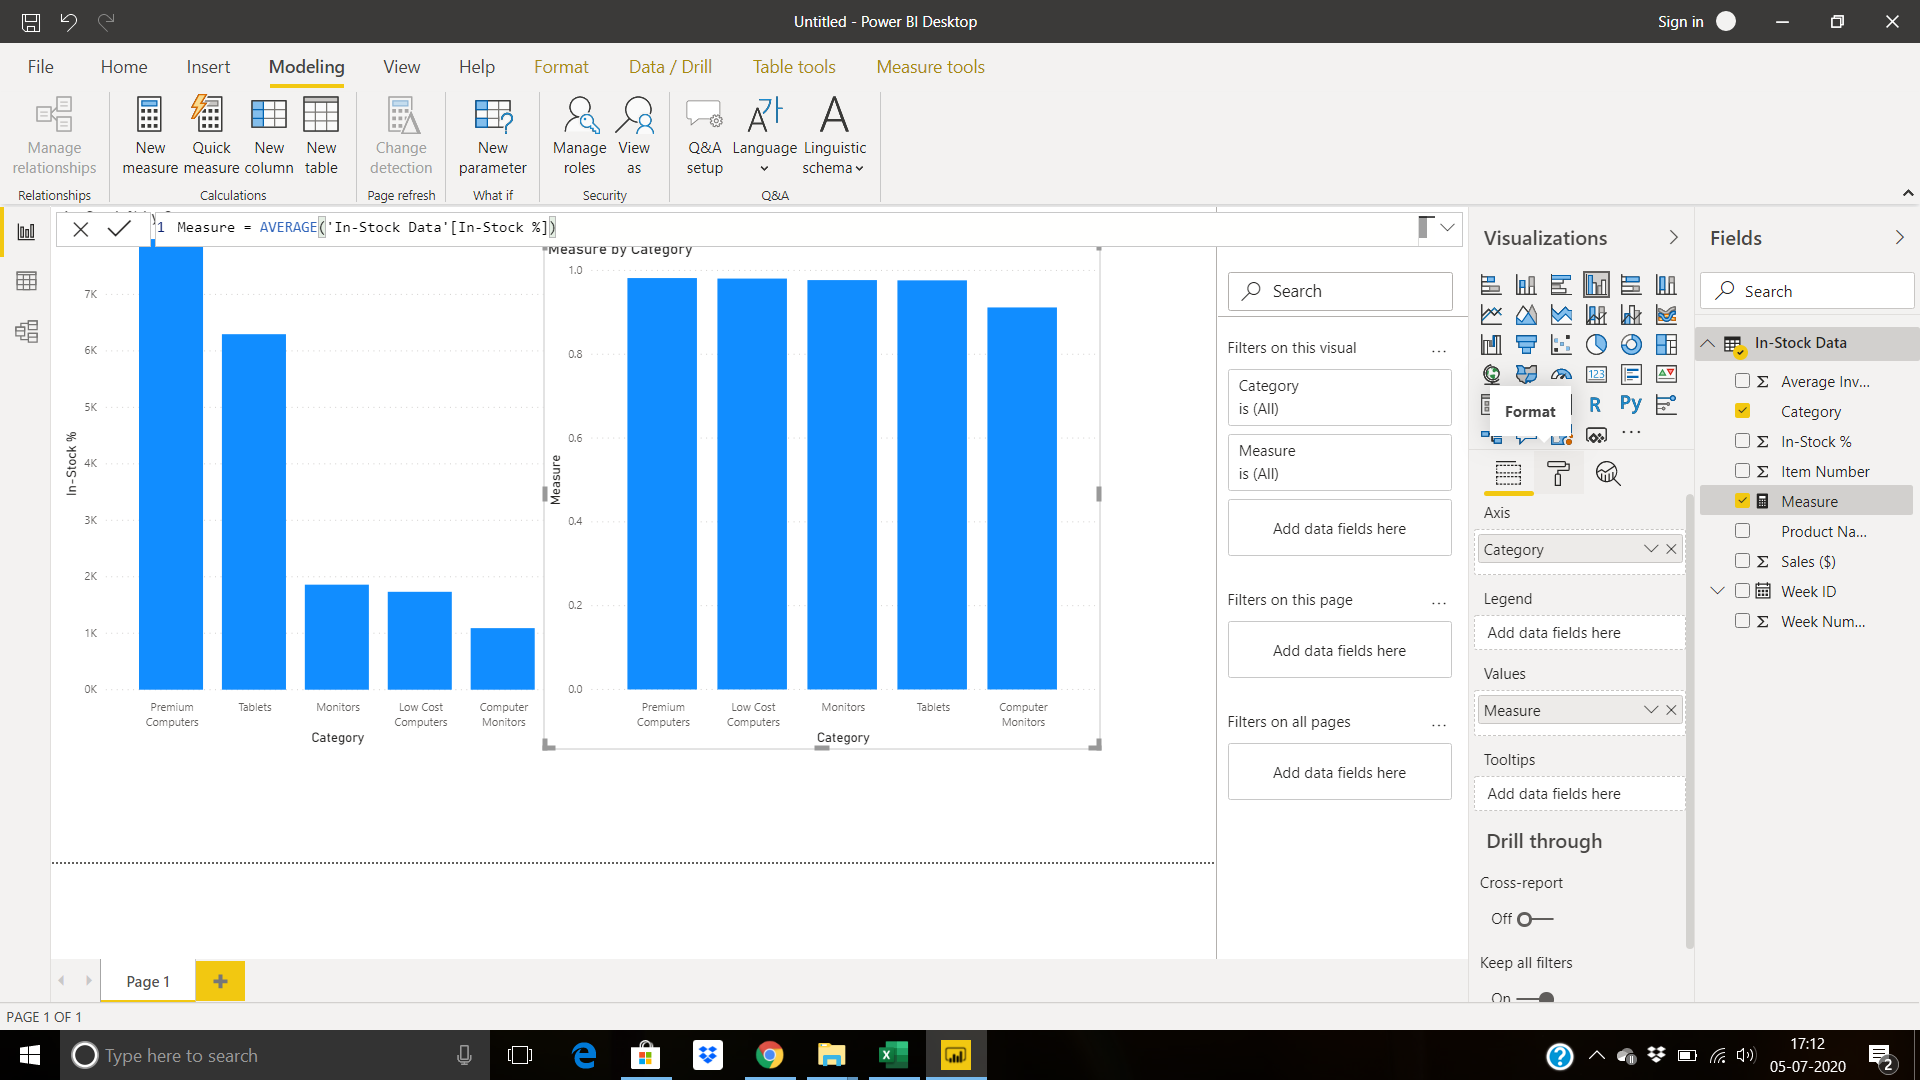

The page's visual inventory and layout, read from the dashboard file:
{"tool":"powerbi","page":{"name":"Page 1","canvas":[1280,720],"ordinal":0},"visuals":[{"type":"columnChart","fields":{"Category":["In-Stock Data.Category"],"Y":["Sum(In-Stock Data.In-Stock %)"]},"box":[9.6,0,565.8,596.1],"z":0},{"type":"clusteredColumnChart","fields":{"Y":["In-Stock Data.Measure"],"Category":["In-Stock Data.Category","In-Stock Data.Category Hierarchy.Category","In-Stock Data.Category Hierarchy.Item Number"]},"box":[541.1,35.7,611.2,560.3],"z":1}]}

Visuals, with their boxes on the page's 1280x720 design canvas (x1, y1, x2, y2). These are canvas units, not pixel positions in the 1920x1080 screenshot, which may show the page scaled, cropped or inside an application window:
columnChart - In-Stock Data.Category x Sum(In-Stock Data.In-Stock %): [10,0,575,596]
clusteredColumnChart - In-Stock Data.Measure x In-Stock Data.Category: [541,36,1152,596]
